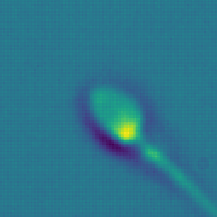normal: (140, 141, 217, 217)
